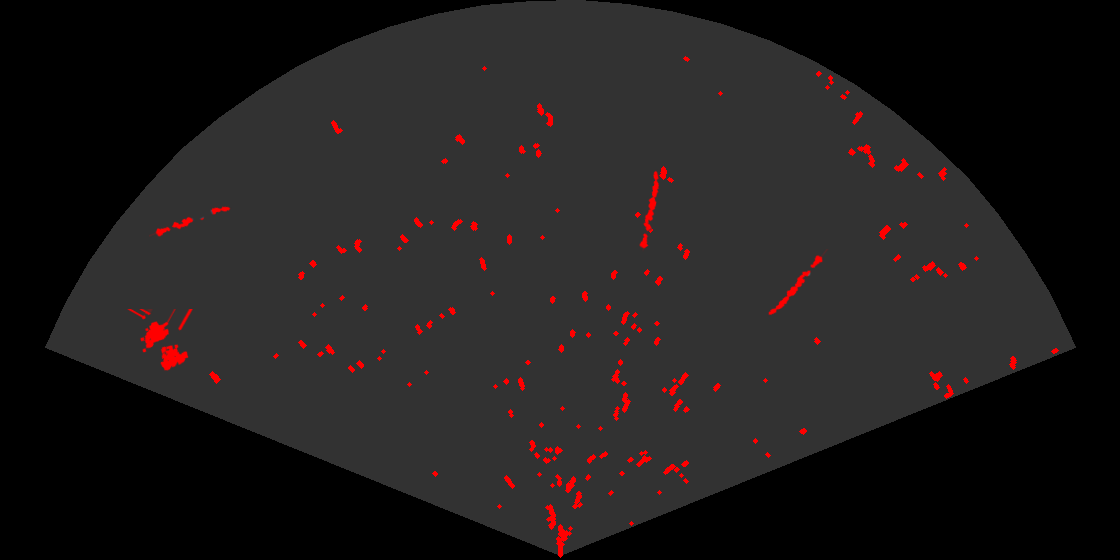cage: (126, 309, 194, 372)
chain: (767, 249, 830, 317), (149, 205, 232, 238), (638, 169, 661, 252)
